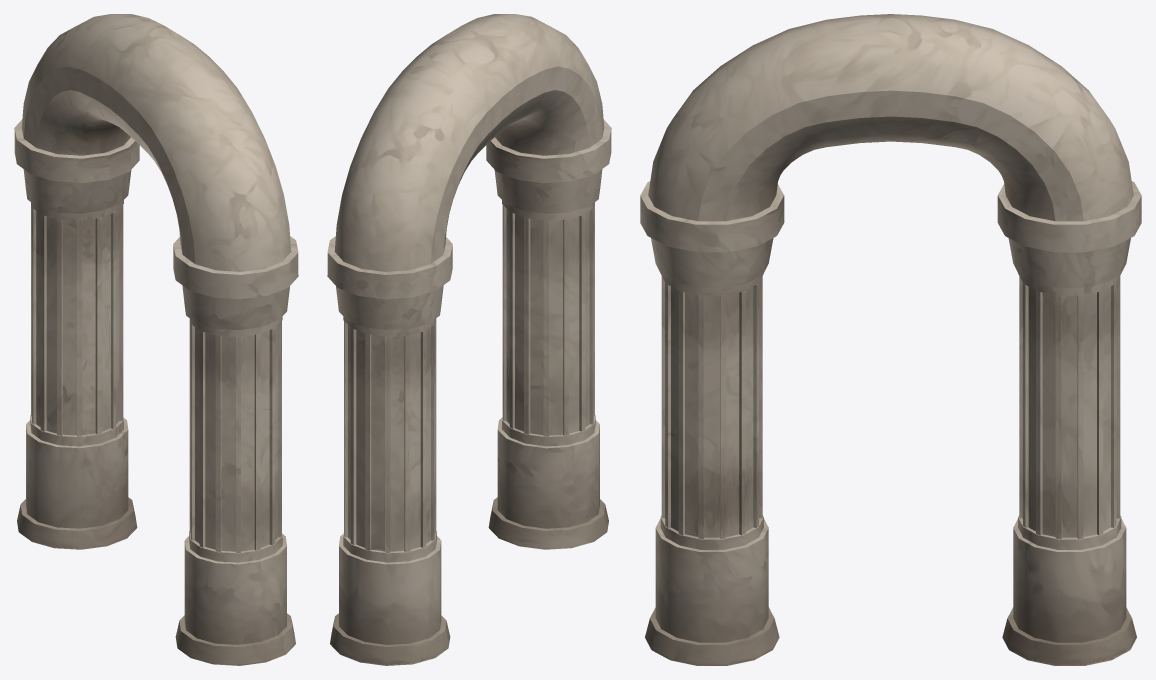
File: kolumna_podwojna.obj
3 renders of one model, left to right at view 1: azimuth 30°, elevation 25°; view 2: azimuth 150°, elevation 25°; view 3: azimuth 270°, elevation 25°, orthographic. The views are drawn at different scales.
Visible parts, largest first — view 1: Cylinder.006; view 2: Cylinder.006; view 3: Cylinder.006.
Part boxes in pixels (box(x1,y1,x2,y2)): Cylinder.006: box(14, 14, 298, 665); Cylinder.006: box(327, 14, 611, 665); Cylinder.006: box(640, 14, 1141, 665).
Size of the model in its own units: 6.37 by 31.36 by 23.07.
Materials: 1 (1 with a texture image).
